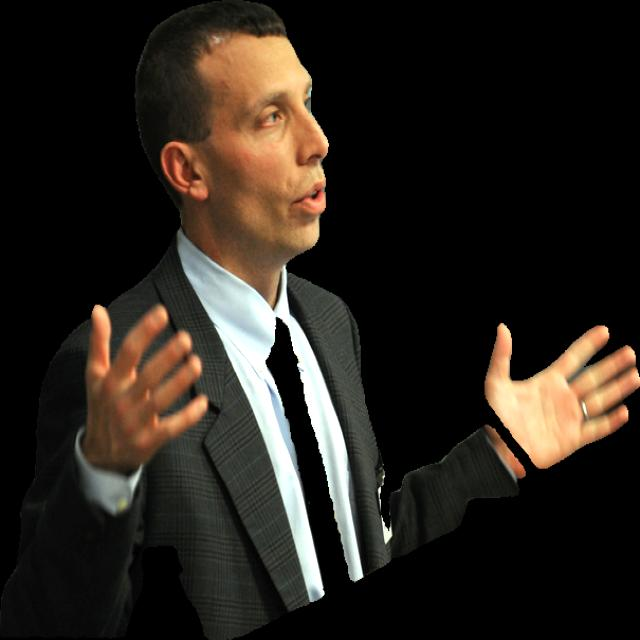Pessoa: (0, 0, 525, 639)
